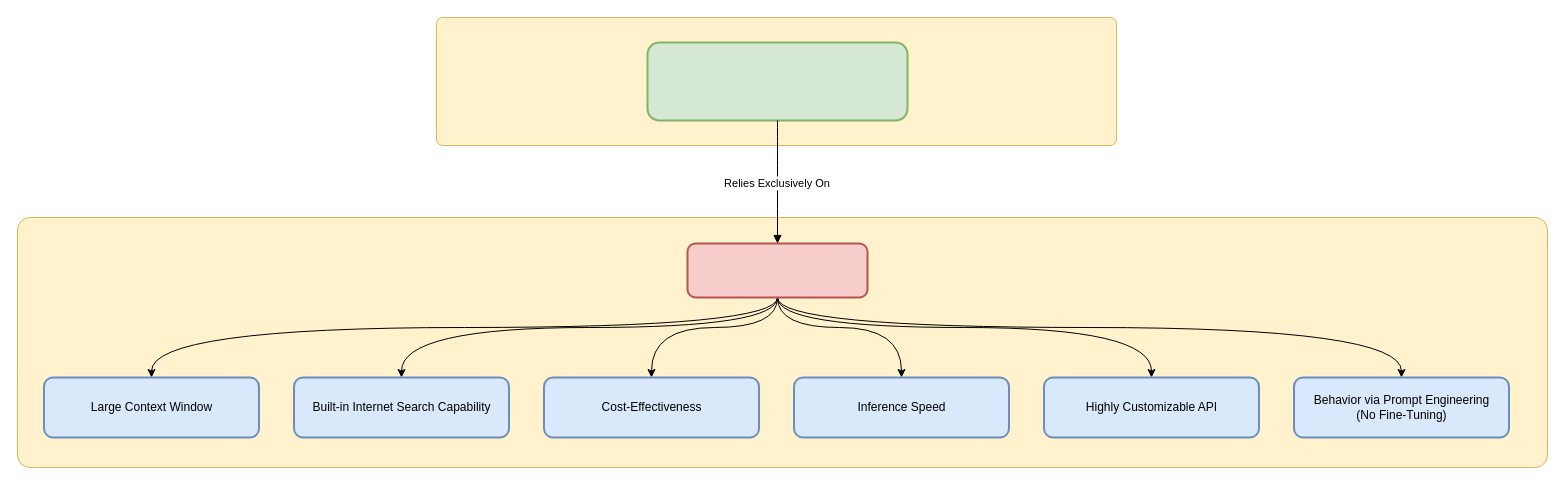
This 1565x485 diagram has some shape labels left out. Here are the shapes that lost their labels. From the top down, the centre of each, then its label:
At point 777,81: "Agentic Orchestration & Other Modules".
At point 777,270: "Gemini 2.0 Flash".
